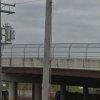Bridge: (4, 34, 92, 82)
